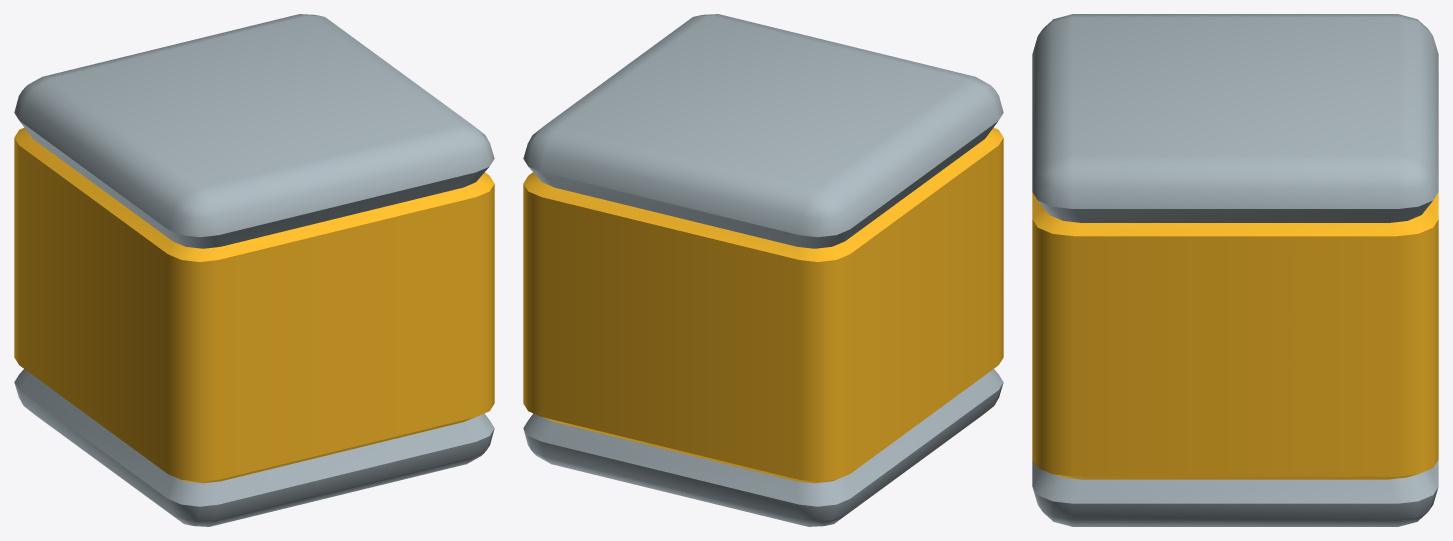
File: powerupBlock_teamYellow-col.glb
3 views of the same model, side by side, from view 1: azimuth 30°, elevation 25°; view 2: azimuth 150°, elevation 25°; view 3: azimuth 270°, elevation 25° (orthographic). The views are drawn at different scales.
Visible parts, largest first — view 1: powerupBlock_teamYellow-col; view 2: powerupBlock_teamYellow-col; view 3: powerupBlock_teamYellow-col.
Boxes of the visible parts, left/top/right/bottom form: powerupBlock_teamYellow-col: left=14, top=14, right=494, bottom=526; powerupBlock_teamYellow-col: left=523, top=14, right=1003, bottom=526; powerupBlock_teamYellow-col: left=1032, top=14, right=1438, bottom=526.
Size of the model in its own units: 1 by 1 by 1.
